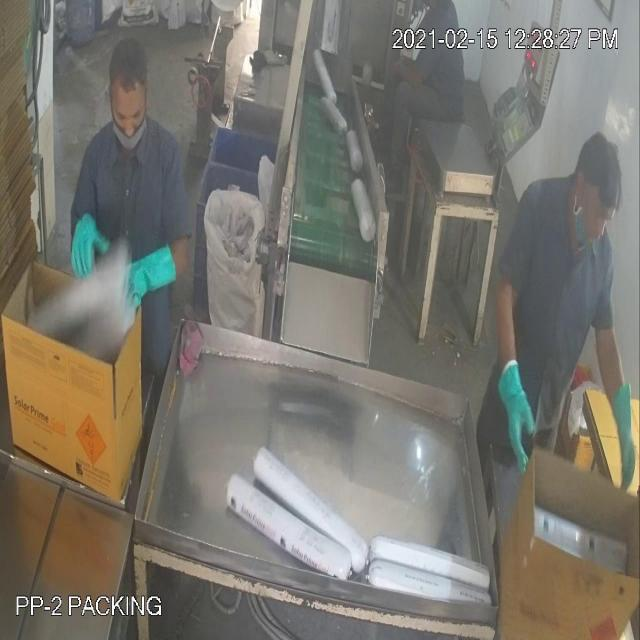Gloves: (50, 54, 614, 412)
